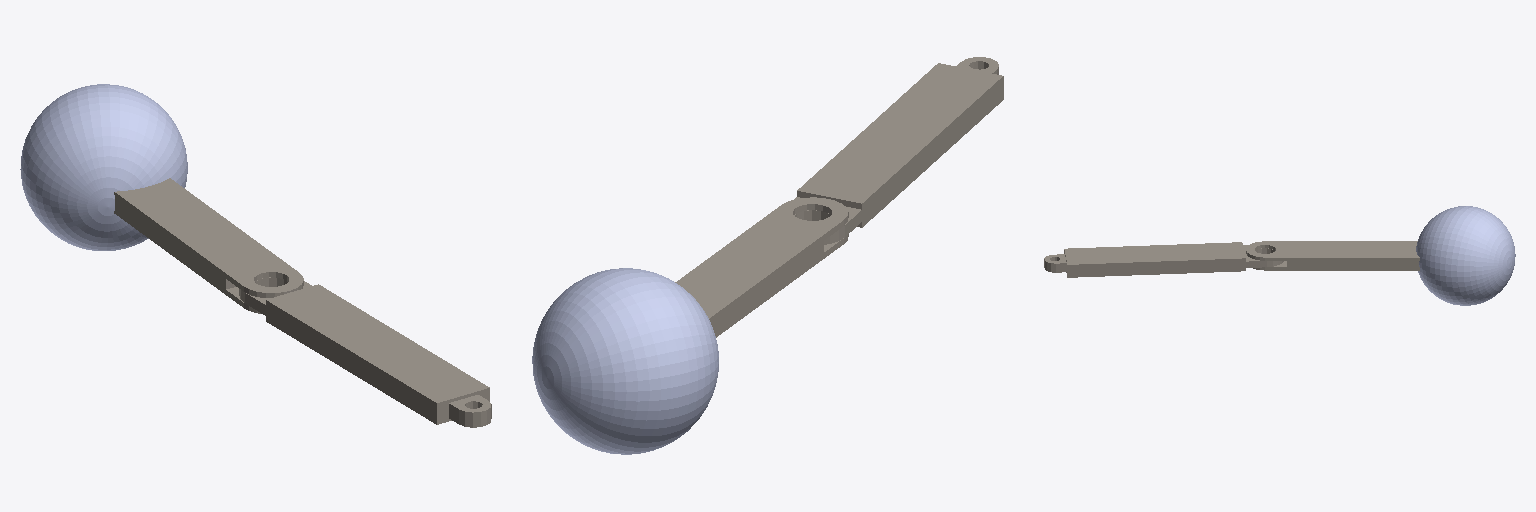
The robot description file, URDF, robot "Excoskelaton":
<?xml version="1.0" encoding="utf-8" ?>
<!-- This URDF was automatically created by SolidWorks to URDF Exporter! Originally created by [author] ([email redacted]) 
     Commit Version: 1.6.0-4-g7f85cfe  Build Version: 1.6.7995.38578
     For more information, please see http://wiki.ros.org/sw_urdf_exporter -->
<robot name="Excoskelaton">
    <link name="shoulder">
        <inertial>
            <origin xyz="0 0 0" rpy="0 0 0" />
            <mass value="1.4368" />
            <inertia ixx="0.002816" ixy="4.3368E-19" ixz="1.0842E-19" iyy="0.002816" iyz="0" izz="0.002816" />
        </inertial>
        <visual>
            <origin xyz="0 0 0" rpy="0 0 0" />
            <geometry>
                <mesh filename="package://Excoskelaton/meshes/shoulder.STL" />
            </geometry>
            <material name="">
                <color rgba="0.79216 0.81961 0.93333 1" />
            </material>
        </visual>
        <collision>
            <origin xyz="0 0 0" rpy="0 0 0" />
            <geometry>
                <mesh filename="package://Excoskelaton/meshes/shoulder.STL" />
            </geometry>
        </collision>
    </link>
    <link name="upperarm">
        <inertial>
            <origin xyz="-2.8704E-10 -0.16994 1.4647E-10" rpy="0 0 0" />
            <mass value="0.21717" />
            <inertia ixx="0.00080566" ixy="4.8074E-12" ixz="-6.7234E-13" iyy="6.1535E-05" iyz="-2.6373E-12" izz="0.00085167" />
        </inertial>
        <visual>
            <origin xyz="0 0 0" rpy="0 0 0" />
            <geometry>
                <mesh filename="package://Excoskelaton/meshes/upperarm.STL" />
            </geometry>
            <material name="">
                <color rgba="0.64706 0.61961 0.58824 1" />
            </material>
        </visual>
        <collision>
            <origin xyz="0 0 0" rpy="0 0 0" />
            <geometry>
                <mesh filename="package://Excoskelaton/meshes/upperarm.STL" />
            </geometry>
        </collision>
    </link>
    <link name="dummy 1" />
    <joint name="upperarm joint 1" type="revolute">
        <origin xyz="0 0 0" rpy="0 0 0" />
        <parent link="shoulder" />
        <child link="dummy 1" />
        <axis xyz="0 0 1" />
        <limit lower="-20" upper="20" effort="15" velocity="135" />
    </joint>
    <link name="dummy 2" />
    <joint name="upperarm joint 2" type="revolute">
        <origin xyz="0 0 0" rpy="0 0 0" />
        <parent link="dummy 1" />
        <child link="dummy 2" />
        <axis xyz="0 1 0" />
        <limit lower="-20" upper="20" effort="15" velocity="135" />
    </joint>
    <joint name="upperarm joint 3" type="revolute">
        <origin xyz="0 0 0" rpy="0 0 0" />
        <parent link="dummy 2" />
        <child link="upperarm" />
        <axis xyz="1 0 0" />
        <limit lower="-20" upper="20" effort="15" velocity="135" />
    </joint>
    <link name="forearm">
        <inertial>
            <origin xyz="0.012852 -0.14821 5.1015E-13" rpy="0 0 0" />
            <mass value="0.29936" />
            <inertia ixx="0.002024" ixy="0.00016846" ixz="-1.301E-18" iyy="9.5875E-05" iyz="6.8474E-18" izz="0.0021012" />
        </inertial>
        <visual>
            <origin xyz="0 0 0" rpy="0 0 0" />
            <geometry>
                <mesh filename="package://Excoskelaton/meshes/forearm.STL" />
            </geometry>
            <material name="">
                <color rgba="0.64706 0.61961 0.58824 1" />
            </material>
        </visual>
        <collision>
            <origin xyz="0 0 0" rpy="0 0 0" />
            <geometry>
                <mesh filename="package://Excoskelaton/meshes/forearm.STL" />
            </geometry>
        </collision>
    </link>
    <joint name="forearm_joint" type="revolute">
        <origin xyz="0 -0.28 0" rpy="0 0 0" />
        <parent link="upperarm" />
        <child link="forearm" />
        <axis xyz="0 0 1" />
        <limit lower="-20" upper="20" effort="15" velocity="135" />
    </joint>
    <transmission name="trans_upperarm joint 1">
        <type>transmission_interface/SimpleTransmission</type>
        <joint name="upperarm joint 1">
            <hardwareInterface>hardware_interface/EffortJointInterface</hardwareInterface>
        </joint>
        <actuator name="upperarm joint 1_motor">
            <hardwareInterface>hardware_interface/EffortJointInterface</hardwareInterface>
            <mechanicalReduction>1</mechanicalReduction>
        </actuator>
    </transmission>
    <transmission name="trans_upperarm joint 2">
        <type>transmission_interface/SimpleTransmission</type>
        <joint name="upperarm joint 2">
            <hardwareInterface>hardware_interface/EffortJointInterface</hardwareInterface>
        </joint>
        <actuator name="upperarm joint 2_motor">
            <hardwareInterface>hardware_interface/EffortJointInterface</hardwareInterface>
            <mechanicalReduction>1</mechanicalReduction>
        </actuator>
    </transmission>
    <transmission name="trans_upperarm joint 3">
        <type>transmission_interface/SimpleTransmission</type>
        <joint name="upperarm joint 3">
            <hardwareInterface>hardware_interface/EffortJointInterface</hardwareInterface>
        </joint>
        <actuator name="upperarm joint 3_motor">
            <hardwareInterface>hardware_interface/EffortJointInterface</hardwareInterface>
            <mechanicalReduction>1</mechanicalReduction>
        </actuator>
    </transmission>
    <transmission name="trans_forearm_joint">
        <type>transmission_interface/SimpleTransmission</type>
        <joint name="forearm_joint">
            <hardwareInterface>hardware_interface/EffortJointInterface</hardwareInterface>
        </joint>
        <actuator name="forearm_joint_motor">
            <hardwareInterface>hardware_interface/EffortJointInterface</hardwareInterface>
            <mechanicalReduction>1</mechanicalReduction>
        </actuator>
    </transmission>
    <gazebo>
        <plugin name="gazebo_ros_control">
            <robotNamespace>/</robotNamespace>
        </plugin>
    </gazebo>
</robot>

--- Render facts (derived) ---
The picture shows the robot from 3 angles, left to right: view 1: azimuth 30°, elevation 25°; view 2: azimuth 150°, elevation 25°; view 3: azimuth 270°, elevation 25°; orthographic projection.
Robot: Excoskelaton — 5 links, 4 joints (4 revolute); root link shoulder; default pose: every joint at zero.
Visible links, largest first — view 1: shoulder, forearm, upperarm; view 2: shoulder, forearm, upperarm; view 3: shoulder, forearm, upperarm.
Link boxes in pixels (bbox=[...]): shoulder: bbox=[20, 84, 187, 250]; forearm: bbox=[239, 277, 491, 427]; upperarm: bbox=[114, 178, 303, 313]; shoulder: bbox=[532, 268, 718, 454]; forearm: bbox=[794, 57, 1003, 244]; upperarm: bbox=[675, 197, 848, 337]; shoulder: bbox=[1416, 206, 1515, 305]; forearm: bbox=[1044, 242, 1283, 277]; upperarm: bbox=[1246, 241, 1419, 270].
Size in the robot's own frame: 0.1398 by 0.6587 by 0.1399 metres.
Meshes: 3 distinct files referenced, 3 mesh visuals loaded (3 binary STL).